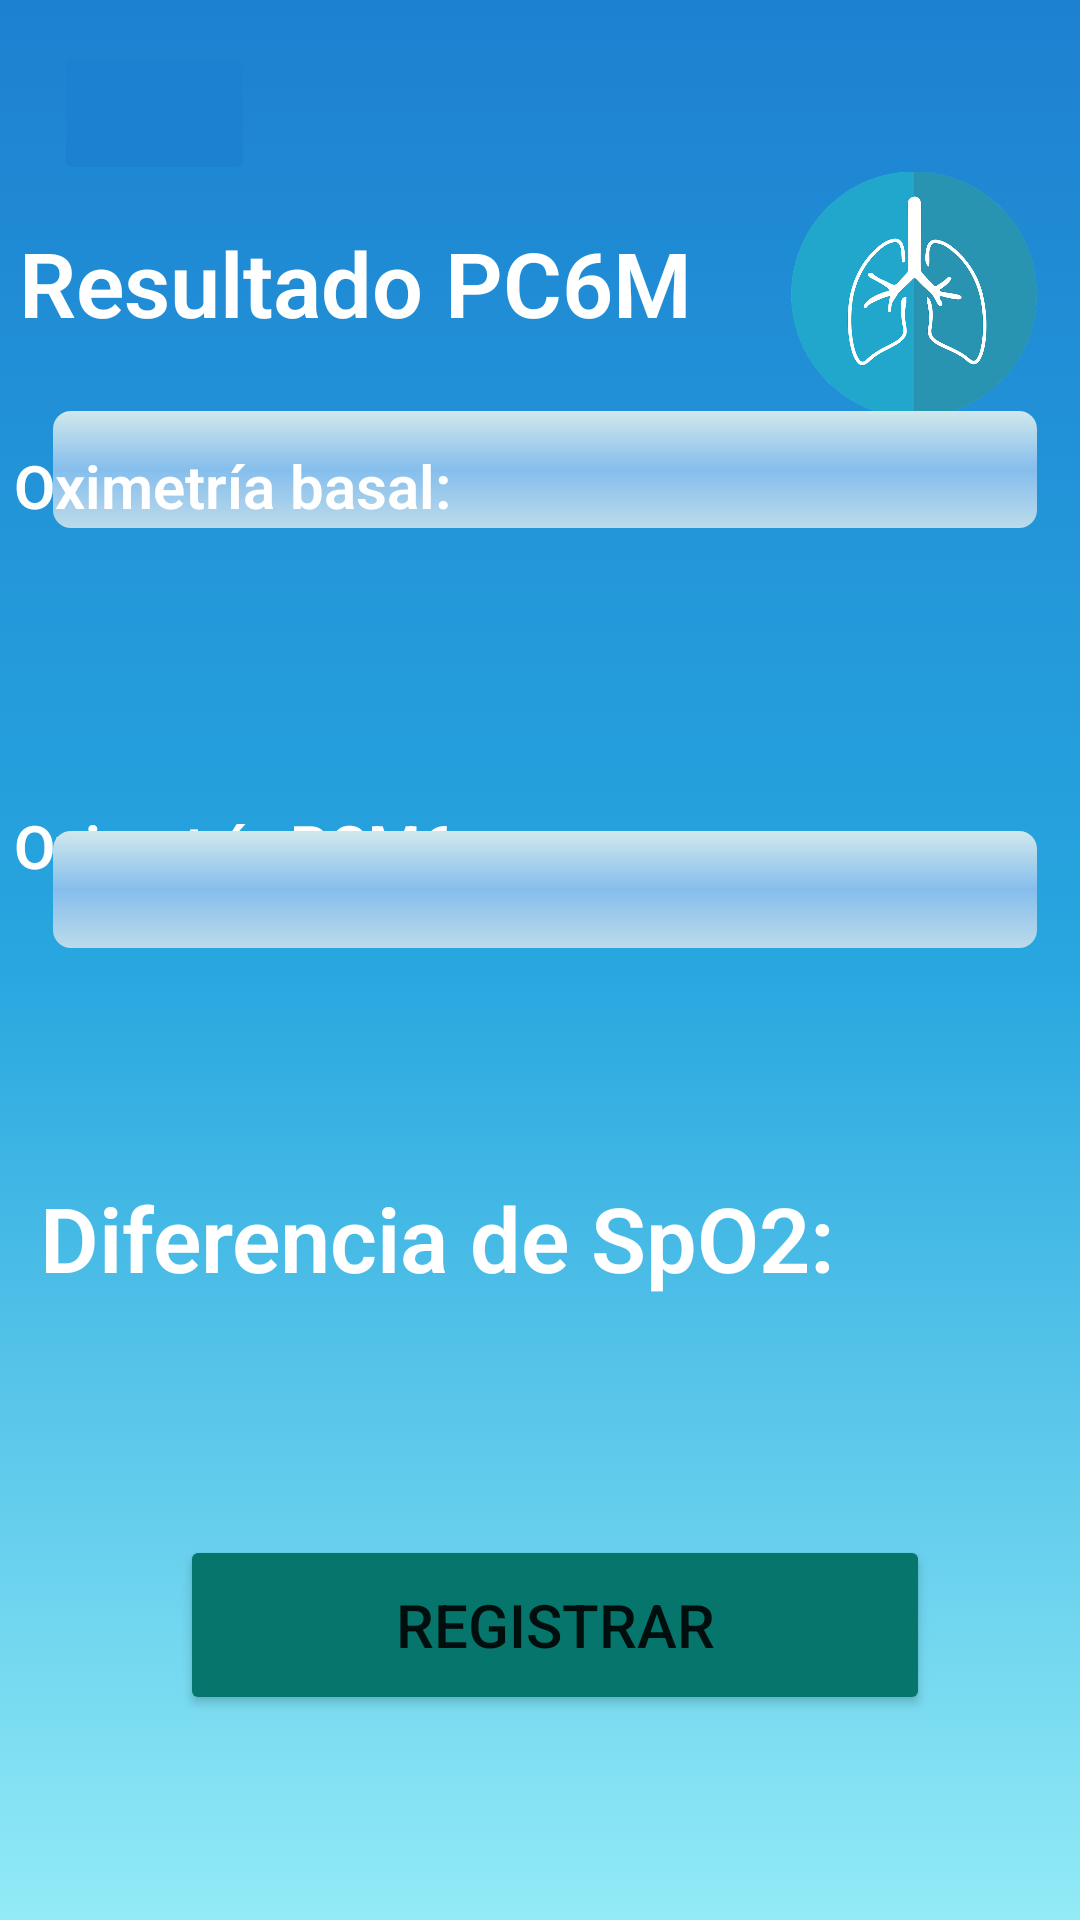

Where icons sit on this 1080x1920 app screen, as [x1=x1, y1=y1, x2=x2, y2=y2]:
lungs: [x1=791, y1=172, x2=1037, y2=449]
